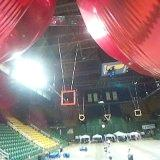Orange_Square_GShape: (61, 90, 75, 106)
Yellow_Circle_GShape: (78, 113, 86, 121)
Yellow_Square_GShape: (134, 109, 141, 117)
Yellow_Triangle_Gshape: (104, 114, 111, 121)
